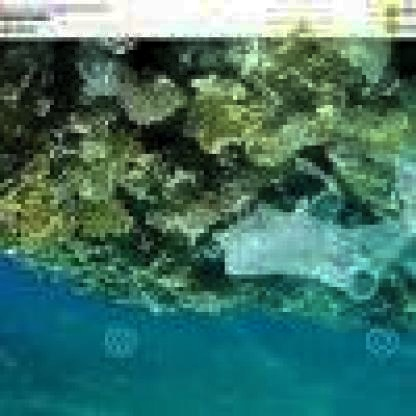pbag: (212, 154, 416, 299)
